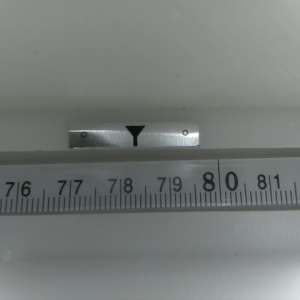0: (224, 171, 239, 191)
1: (273, 174, 280, 189)
6: (20, 180, 31, 197)
7: (3, 181, 14, 197), (72, 179, 82, 195), (56, 180, 66, 196), (107, 178, 117, 194), (157, 176, 166, 192)
8: (202, 172, 215, 192), (256, 174, 266, 189), (123, 177, 132, 193)
9: (172, 176, 182, 192)
finger: (123, 125, 145, 147)
